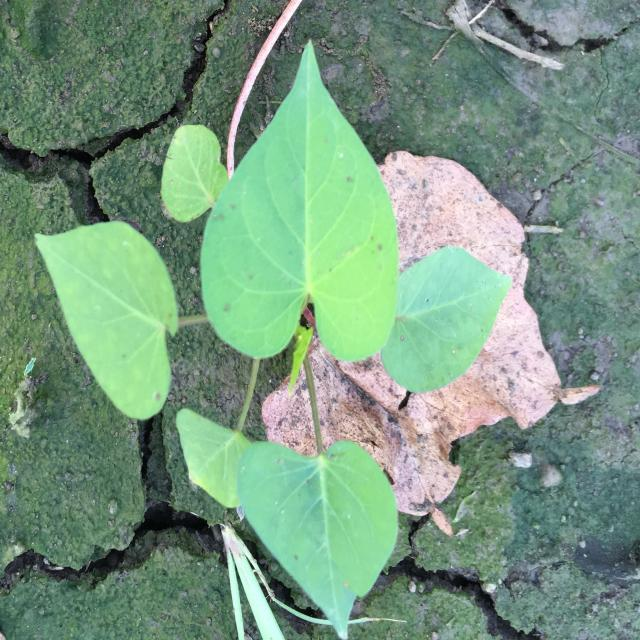MorningGlory: (35, 41, 513, 639)
